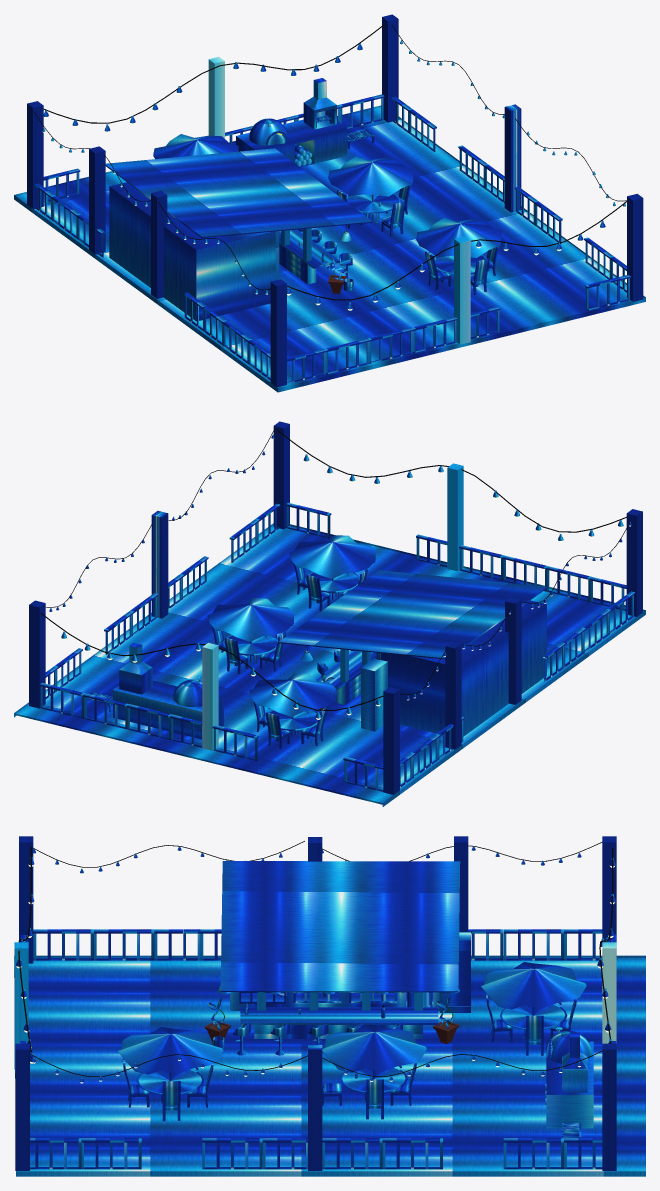
Rendered from Bar.fbx.
The picture shows the model from 3 angles, top to bottom: view 1: azimuth 30°, elevation 25°; view 2: azimuth 150°, elevation 25°; view 3: azimuth 270°, elevation 25°; orthographic projection. The views are drawn at different scales.
Parts seen in each view (by area): view 1: pCube123_TABLAS_0, TECHO1_TECHOO_0, pasted__pCube83_PARED_0, polySurface9_SOMBRILLA1_0, MEZON_HORNOS_CEMENTO_0, polySurface9_SOMBRILLA1_0.001, pCube117_MADERA_OSC_0, pCube120_MADERA_OSC_0, pCube157_MADERA_OSC_0, pCube119_MADERA_OSC_0, pCube118_MADERA_OSC_0, pCube114_MADERA_OSC_0 (+16 smaller); view 2: pCube123_TABLAS_0, TECHO1_TECHOO_0, pasted__pCube83_PARED_0, MEZON_HORNOS_CEMENTO_0, polySurface9_SOMBRILLA1_0.001, polySurface9_SOMBRILLA1_0, polySurface9_SOMBRILLA1_0.002, pCube117_MADERA_OSC_0, pCube114_MADERA_OSC_0, pCube116_MADERA_OSC_0, pCube119_MADERA_OSC_0, pCube115_MADERA_OSC_0 (+21 smaller); view 3: pCube123_TABLAS_0, TECHO1_TECHOO_0, polySurface9_SOMBRILLA1_0.002, polySurface9_SOMBRILLA1_0, polySurface9_SOMBRILLA1_0.001, pCube3_MEZON_0, MEZON_HORNOS_CEMENTO_0, pCube116_MADERA_OSC_0, pCube118_MADERA_OSC_0, pCube117_MADERA_OSC_0, pCube120_MADERA_OSC_0, pCube119_MADERA_OSC_0 (+29 smaller).
Part boxes in pixels (box(x1,y1,x2,y2)): pCube123_TABLAS_0: box(14, 105, 645, 392); TECHO1_TECHOO_0: box(105, 148, 372, 237); pasted__pCube83_PARED_0: box(109, 182, 275, 321); polySurface9_SOMBRILLA1_0: box(328, 156, 413, 196); MEZON_HORNOS_CEMENTO_0: box(236, 119, 347, 167); polySurface9_SOMBRILLA1_0.001: box(416, 218, 501, 257); pCube117_MADERA_OSC_0: box(504, 104, 521, 212); pCube120_MADERA_OSC_0: box(270, 279, 286, 387); pCube157_MADERA_OSC_0: box(89, 146, 105, 254); pCube119_MADERA_OSC_0: box(454, 236, 470, 344); pCube118_MADERA_OSC_0: box(627, 193, 643, 301); pCube114_MADERA_OSC_0: box(27, 101, 43, 209); pCube123_TABLAS_0: box(14, 523, 645, 806); TECHO1_TECHOO_0: box(278, 570, 547, 659); pasted__pCube83_PARED_0: box(381, 600, 546, 736); MEZON_HORNOS_CEMENTO_0: box(113, 680, 223, 739); polySurface9_SOMBRILLA1_0.001: box(289, 535, 375, 578); polySurface9_SOMBRILLA1_0: box(207, 598, 293, 641); polySurface9_SOMBRILLA1_0.002: box(249, 673, 335, 716); pCube117_MADERA_OSC_0: box(151, 511, 168, 618); pCube114_MADERA_OSC_0: box(383, 687, 399, 794); pCube116_MADERA_OSC_0: box(29, 600, 45, 708); pCube119_MADERA_OSC_0: box(447, 463, 463, 571); pCube115_MADERA_OSC_0: box(202, 642, 218, 750); pCube123_TABLAS_0: box(14, 955, 645, 1176); TECHO1_TECHOO_0: box(220, 861, 460, 992); polySurface9_SOMBRILLA1_0.002: box(481, 962, 586, 1009); polySurface9_SOMBRILLA1_0: box(322, 1025, 426, 1072); polySurface9_SOMBRILLA1_0.001: box(118, 1027, 223, 1074); pCube3_MEZON_0: box(240, 1007, 438, 1024); MEZON_HORNOS_CEMENTO_0: box(546, 1041, 593, 1128); pCube116_MADERA_OSC_0: box(602, 1043, 616, 1170); pCube118_MADERA_OSC_0: box(15, 1043, 29, 1170); pCube117_MADERA_OSC_0: box(308, 1043, 322, 1170); pCube120_MADERA_OSC_0: box(19, 836, 33, 963); pCube119_MADERA_OSC_0: box(14, 942, 28, 1069).
Bounding box in the file's own units: 577 × 156 × 714.
Materials: 29 (22 with a texture image).
